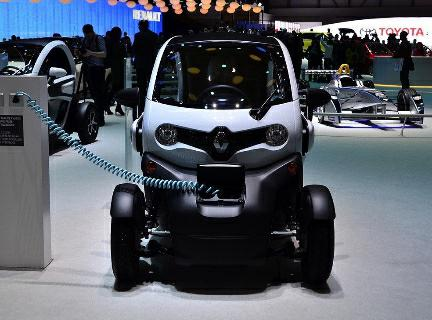雷诺-Twizy: (106, 30, 343, 291)
